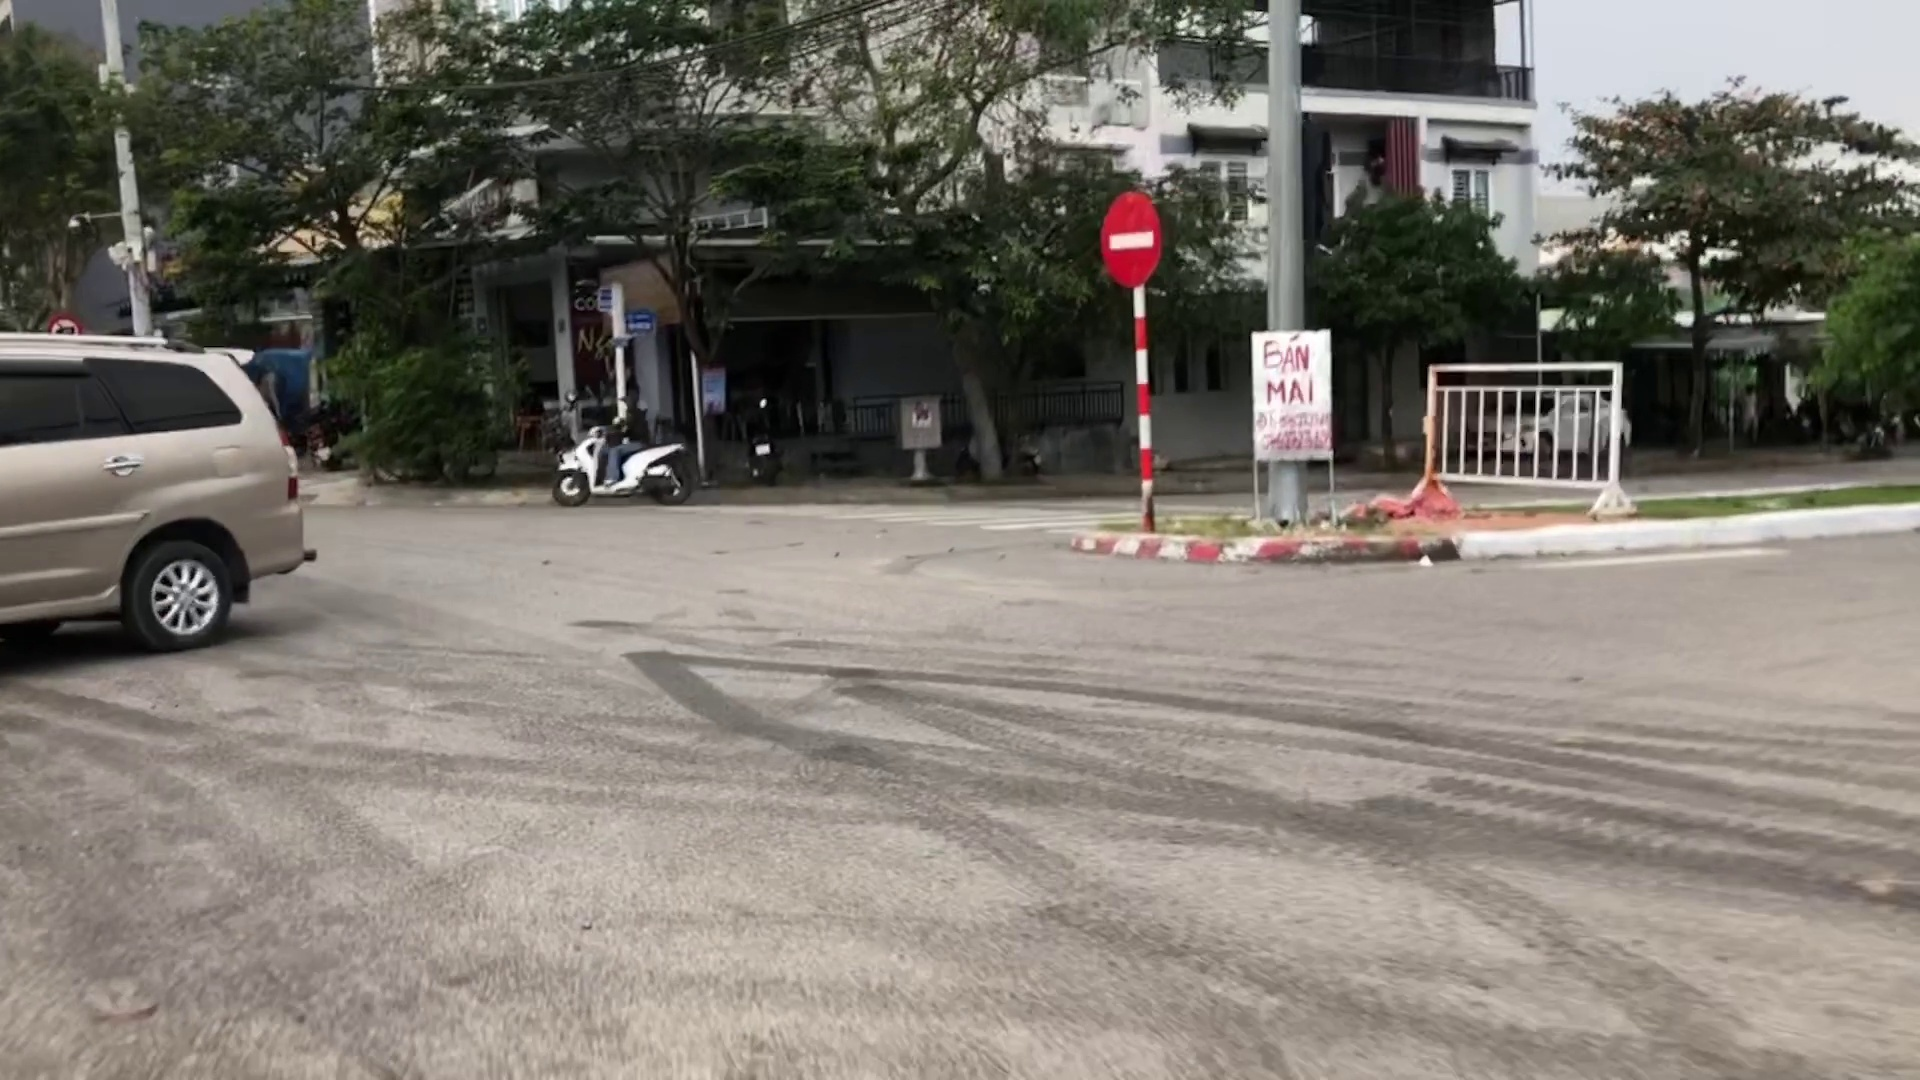Cam di nguoc chieu: (1098, 189, 1160, 287)
